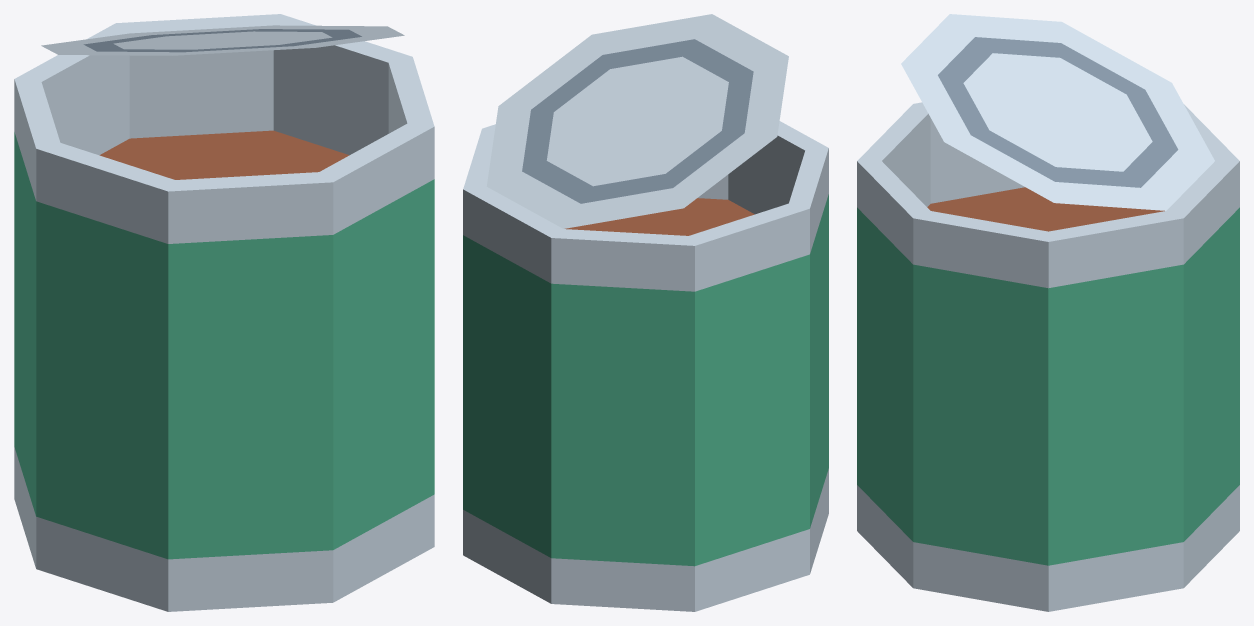
The model's file is canOpen.obj.
The picture shows the model from 3 angles, left to right: view 1: azimuth 30°, elevation 25°; view 2: azimuth 150°, elevation 25°; view 3: azimuth 270°, elevation 25°; orthographic projection. The views are drawn at different scales.
Parts seen in each view (by area): view 1: canOpen; view 2: canOpen; view 3: canOpen.
Part boxes in pixels (x1=…): canOpen: x1=14, y1=14, x2=434, y2=611; canOpen: x1=463, y1=14, x2=828, y2=611; canOpen: x1=857, y1=14, x2=1239, y2=611.
Size of the model in its own units: 0.3 by 0.4071 by 0.3.
